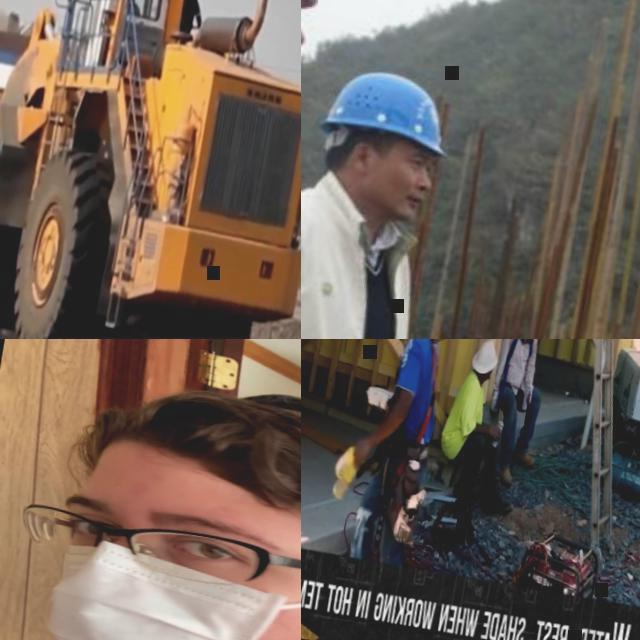helmet: (318, 64, 461, 158), (471, 339, 503, 378)
machinery: (0, 0, 301, 339)
mask: (36, 534, 301, 640)
no_helmet: (75, 370, 301, 560)
no_mask: (358, 175, 428, 224), (486, 373, 492, 381)
no_vest: (301, 198, 423, 339), (390, 339, 449, 449), (448, 380, 487, 440), (501, 339, 538, 390)
person: (0, 348, 301, 640), (301, 50, 460, 339), (339, 339, 461, 565), (425, 339, 542, 551), (478, 339, 563, 491), (126, 0, 145, 16)
